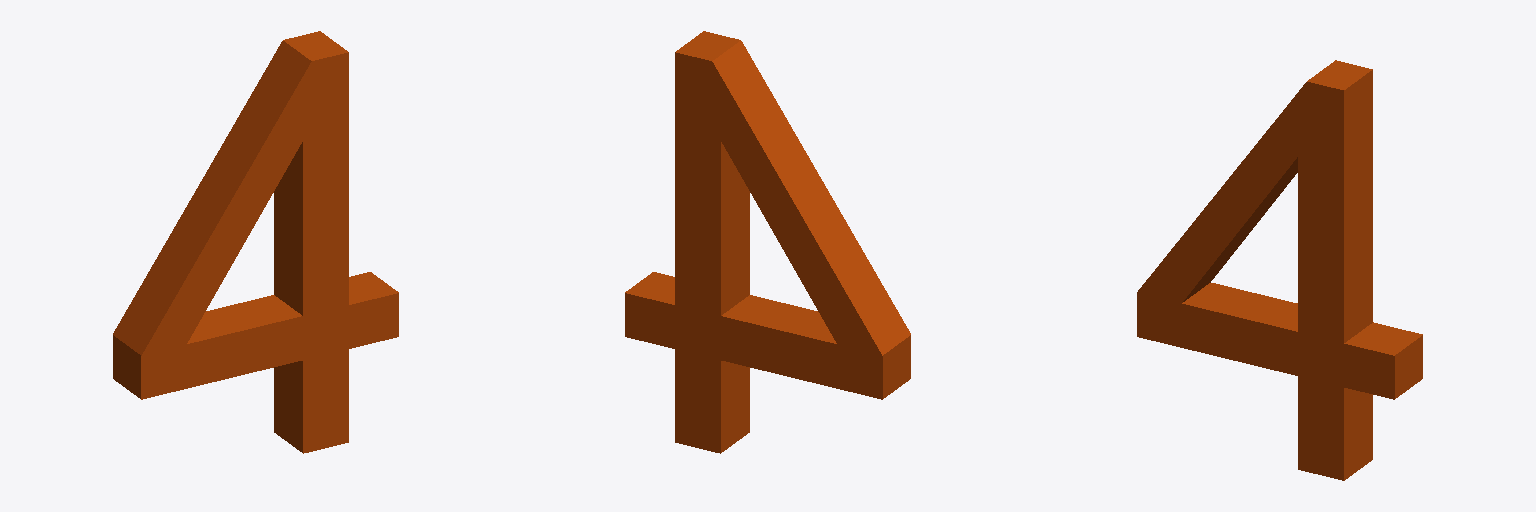
Rendered from fore_3006_01.obj.
3 renders of one model, left to right at view 1: azimuth 30°, elevation 25°; view 2: azimuth 150°, elevation 25°; view 3: azimuth 330°, elevation 25°, orthographic.
Parts seen in each view (by area): view 1: polySurface654 polySurface541; view 2: polySurface654 polySurface541; view 3: polySurface654 polySurface541.
Boxes of the visible parts, x1=… form: polySurface654 polySurface541: x1=113, y1=31, x2=398, y2=453; polySurface654 polySurface541: x1=625, y1=31, x2=910, y2=453; polySurface654 polySurface541: x1=1137, y1=60, x2=1422, y2=480.
Bounding box in the file's own units: 0.8841 × 1.28 × 0.1719.